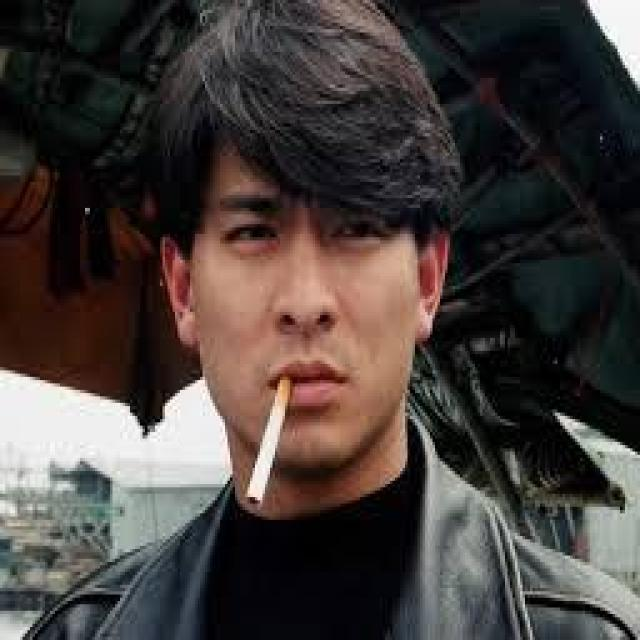cigarette: (218, 354, 300, 513)
